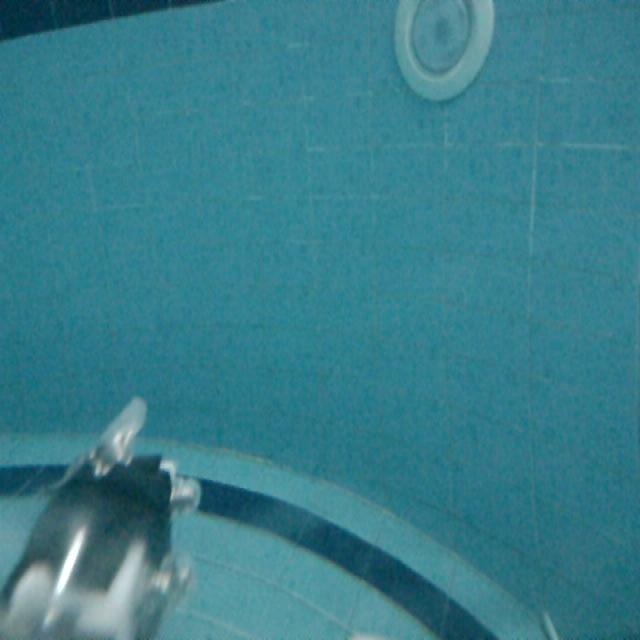Cube: (535, 604, 571, 640)
